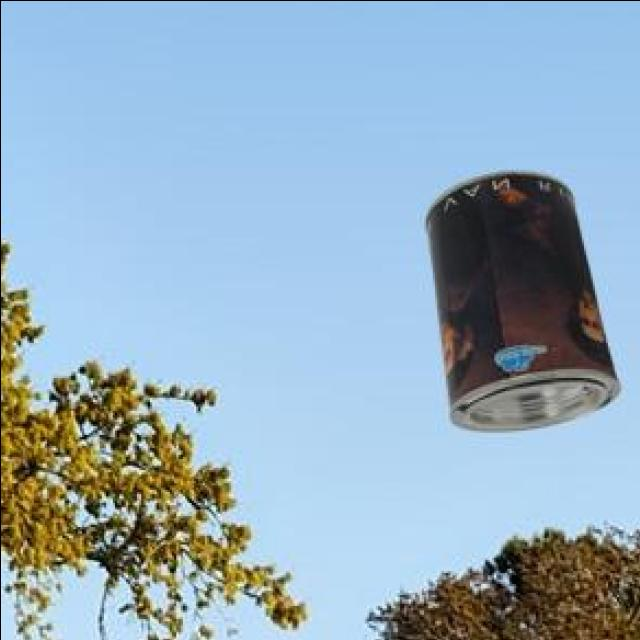logam: (428, 168, 621, 426)
